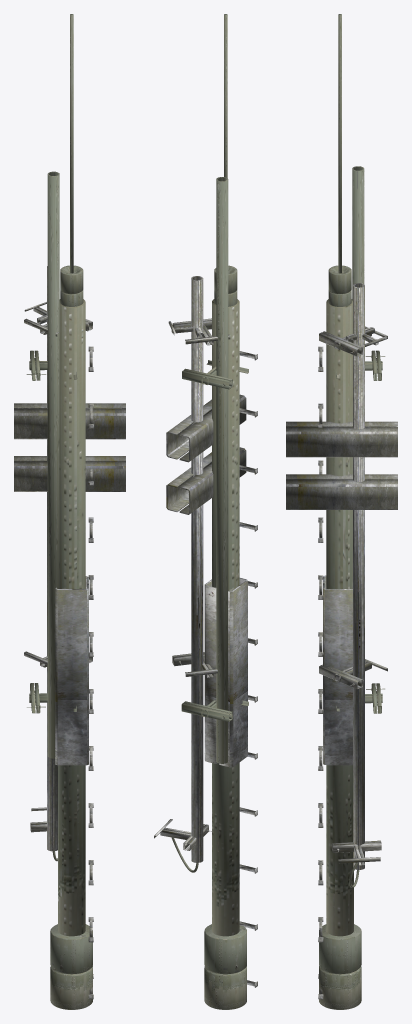
File: cell tower 2.glb
3 renders of one model, left to right at view 1: azimuth 90°, elevation 25°; view 2: azimuth 150°, elevation 25°; view 3: azimuth 270°, elevation 25°, orthographic.
Visible parts, largest first — view 1: Cell Tower 2; view 2: Cell Tower 2; view 3: Cell Tower 2.
Boxes of the visible parts, box(x1,y1,x2,y2) form: Cell Tower 2: box(14, 14, 125, 1009); Cell Tower 2: box(154, 14, 257, 1009); Cell Tower 2: box(286, 14, 397, 1009).
Bounding box in the file's own units: 0.9 × 10.69 × 1.1.
2 materials, 2 textured.
